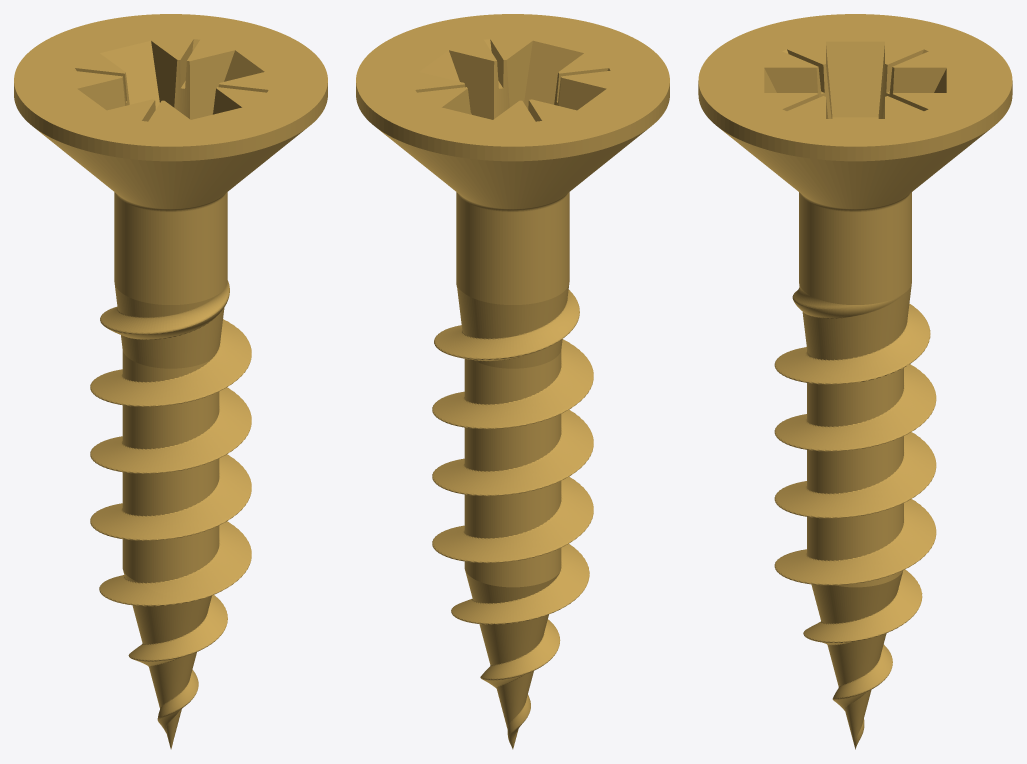
The model's file is model_full.glb.
The picture shows the model from 3 angles, left to right: view 1: azimuth 30°, elevation 25°; view 2: azimuth 150°, elevation 25°; view 3: azimuth 270°, elevation 25°; orthographic projection.
Parts seen in each view (by area): view 1: geometry_0; view 2: geometry_0; view 3: geometry_0.
Boxes of the visible parts, <box> form: geometry_0: <box>14,14,327,749</box>; geometry_0: <box>356,14,669,749</box>; geometry_0: <box>698,14,1012,749</box>.
Bounding box in the file's own units: 0.0068 × 0.016 × 0.0068.
